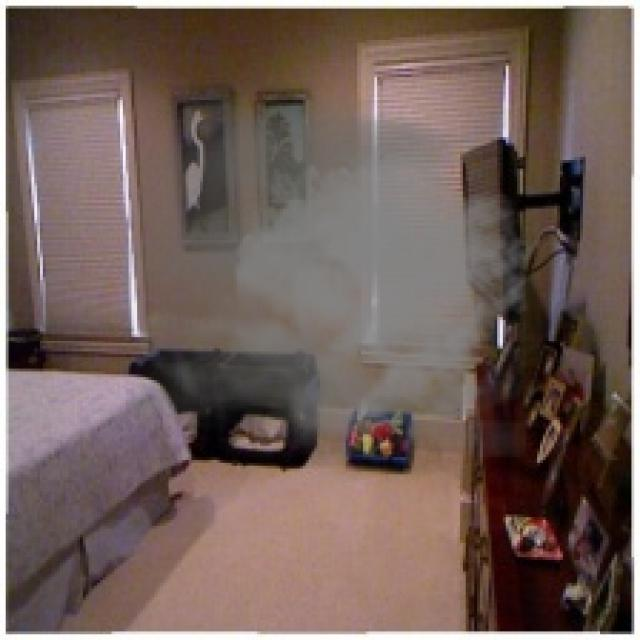smoke: (126, 94, 540, 457)
